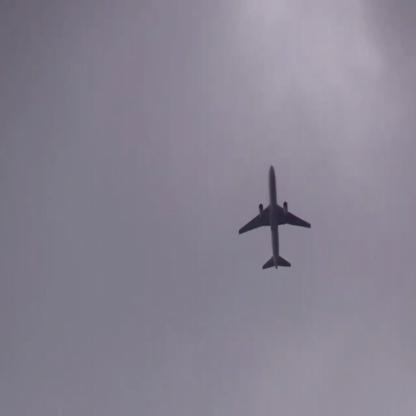CIV_Plane: (239, 164, 312, 267)
